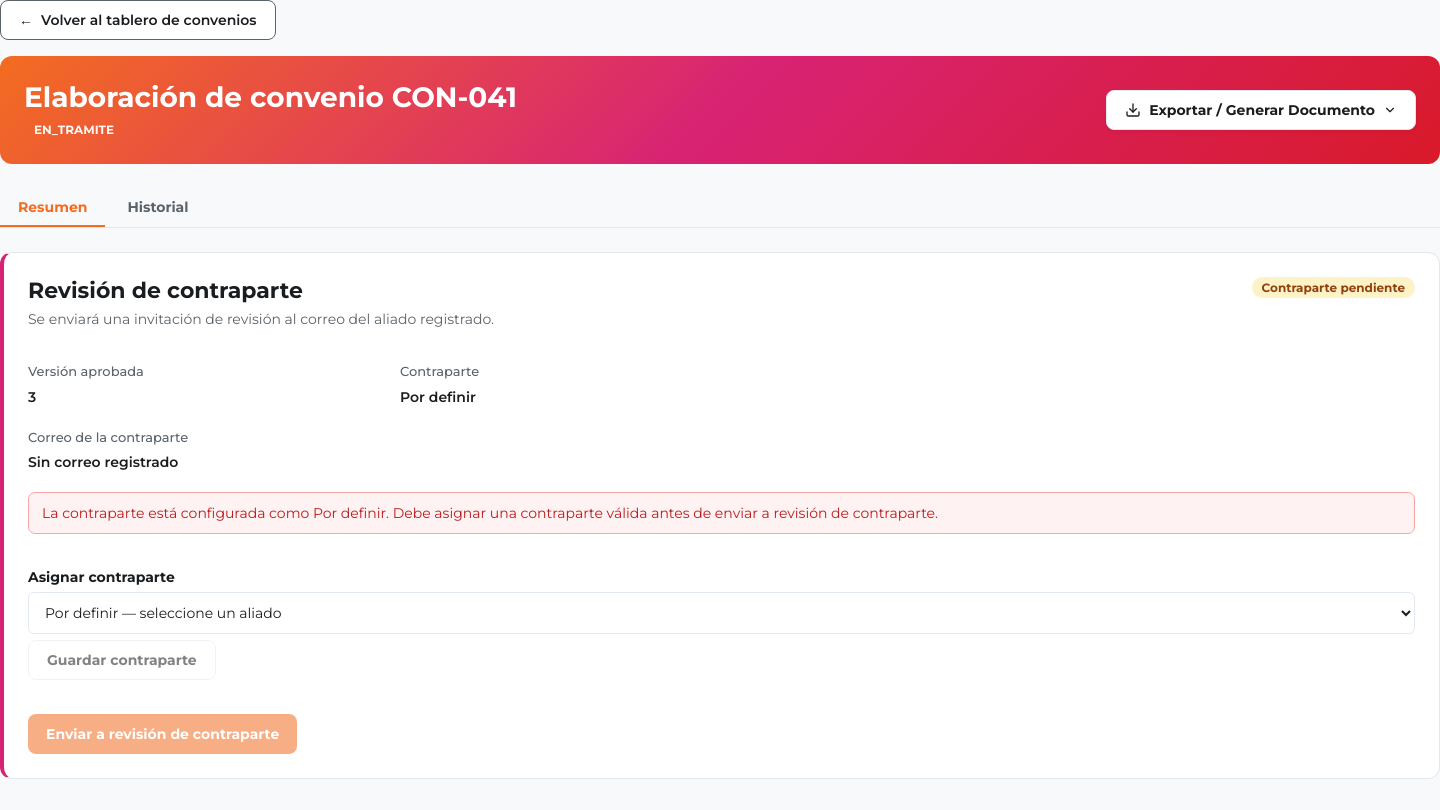
Scenario: HT-16 (#172): validación y asignación de contraparte antes del envío (CA-01, CA-02, CA-03) › consulta todas las páginas del contrato real y permite seleccionar un aliado posterior al primero
The width and height of the screenshot is (1440, 810).
Select "Universidad Contraparte Válida (890333444) · juridica@universidad.edu.co" in the dropdown labelled "Asignar contraparte" at (722, 613), box [28,592,1415,634]
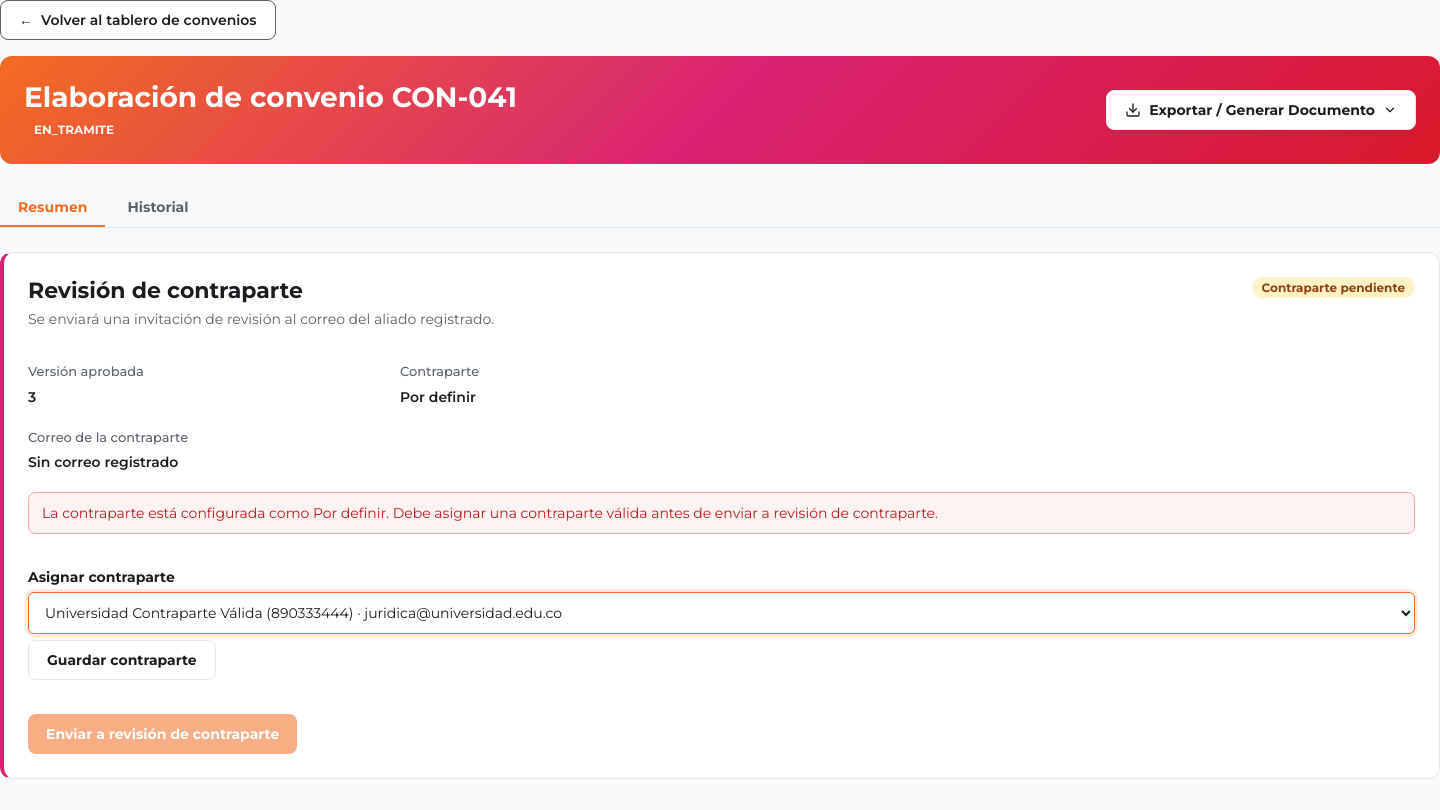
Click the button "Guardar contraparte" at (122, 660), box [28,640,216,680]
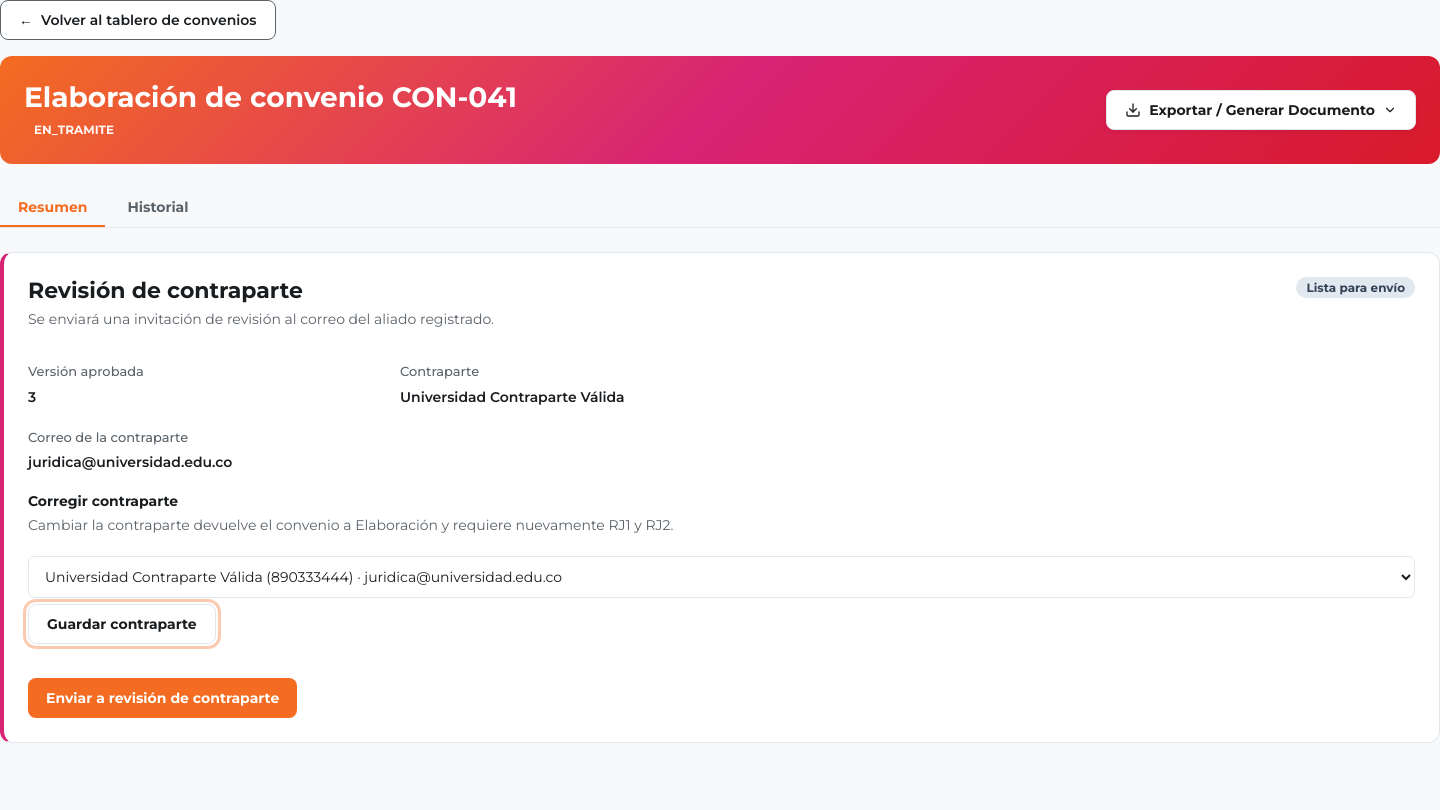
Expected: the button "Enviar a revisión de contraparte" is enabled
Click the button "Enviar a revisión de contraparte" at (163, 698), box [28,678,297,718]
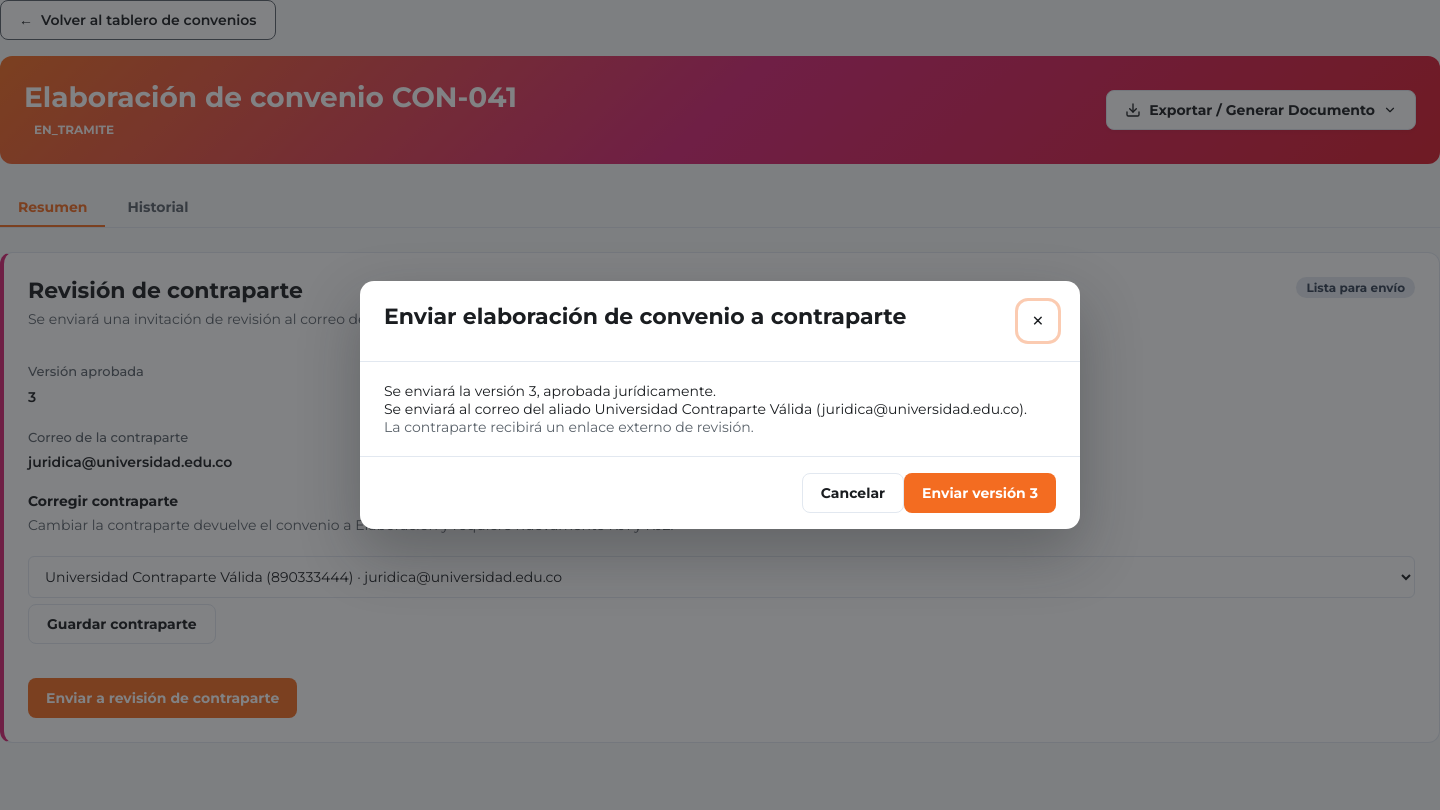
Click the button "Enviar versión 3" at (980, 493), box [904,473,1056,513]
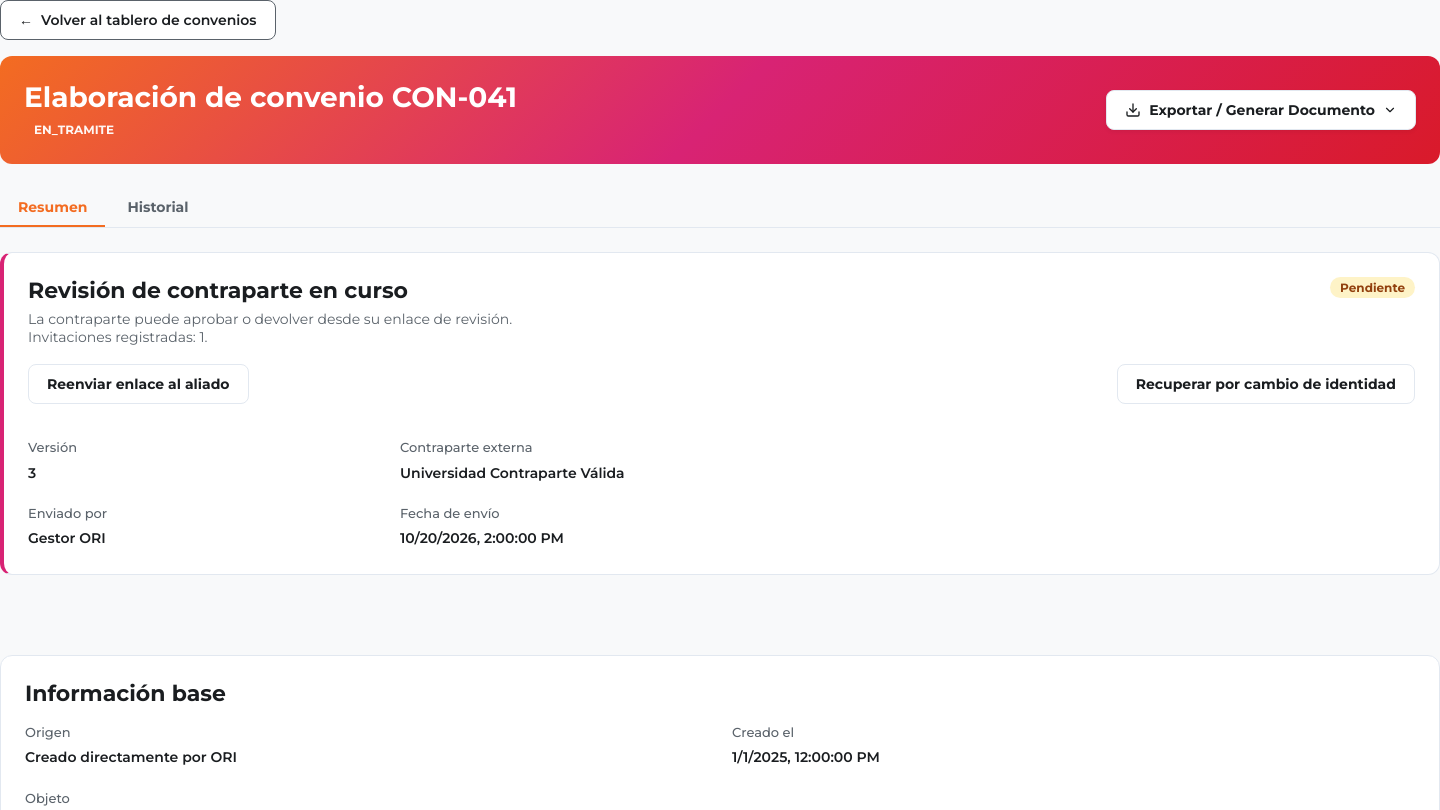
Expected: the heading "Revisión de contraparte en curso" is shown, [28,277,408,304]
